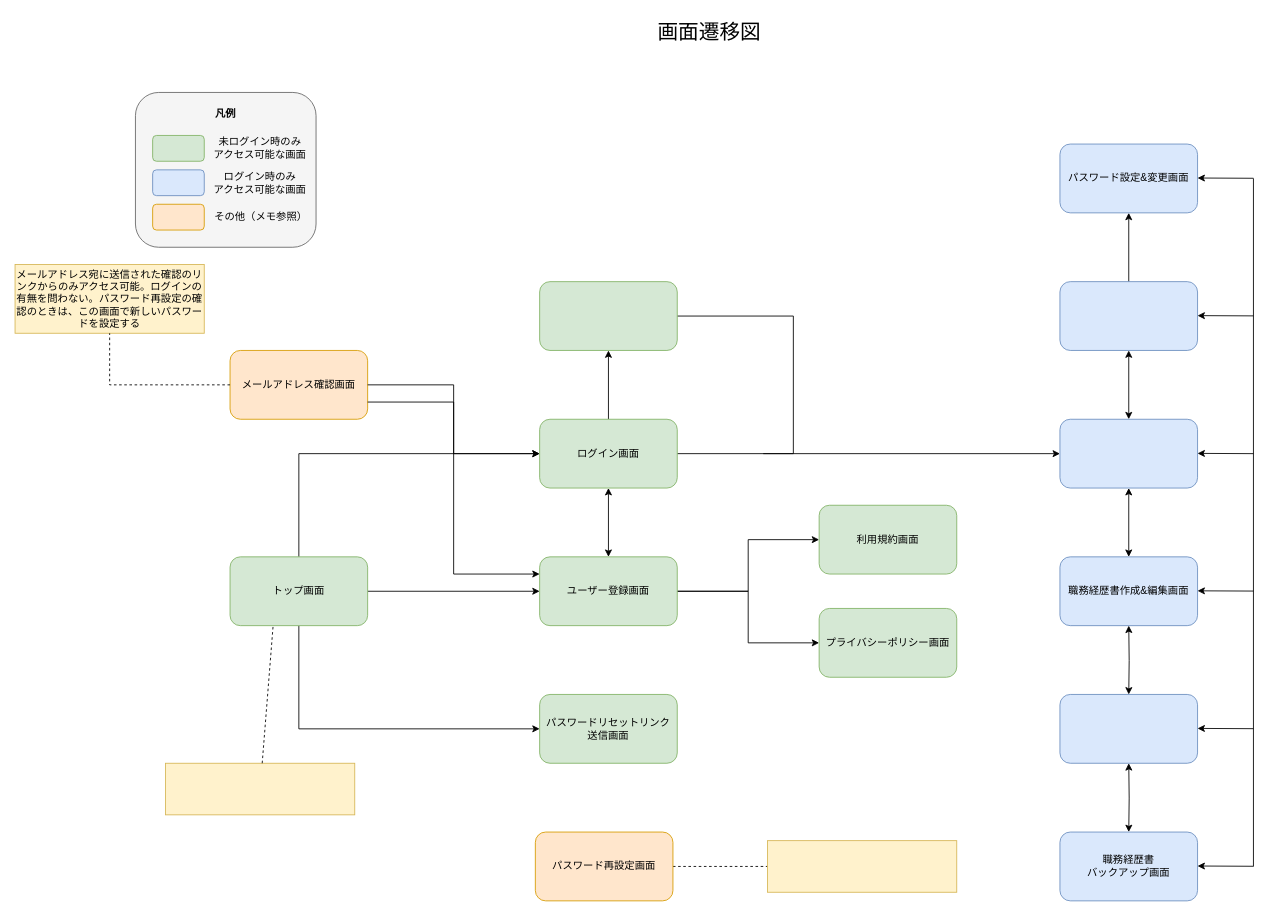
Some shapes in this 1275 by 916 pixel diagram are drawn without their labels. The shapes that lost their labels are listed below. From the top down, each one's centre as x and y in pixels, then its label:
At point (608, 315): "2段階認証画面".
At point (1128, 315): "ユーザー設定画面".
At point (1128, 453): "職務経歴書一覧画面".
At point (1128, 728): "お問い合わせ画面".
At point (260, 788): "ログアウト時、トップ画面へ遷移する".
At point (862, 866): "メールアドレス宛に送信されたリセットリンクからのみアクセス可能".
